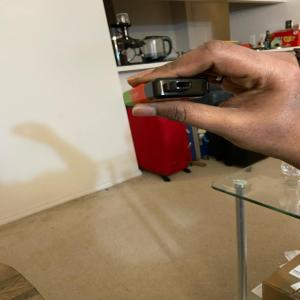Swift-E-Ciggirate: (120, 74, 223, 115)
